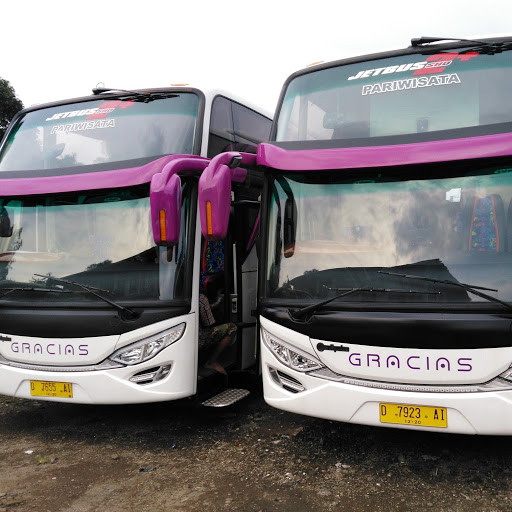plate: (380, 402, 445, 426), (27, 380, 73, 398)
